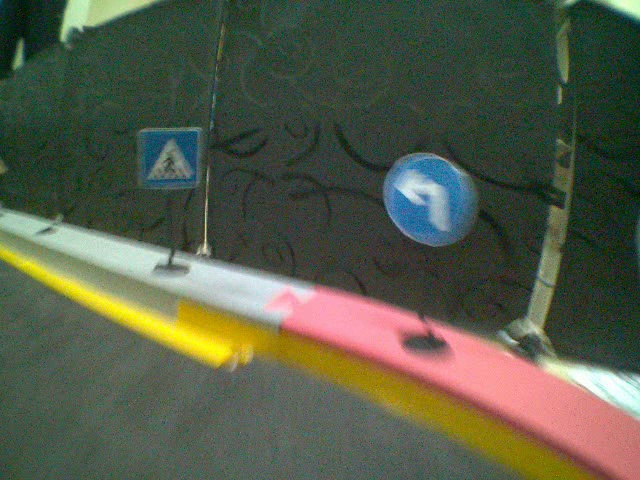crossing: (135, 128, 202, 187)
turn: (383, 152, 474, 248)
